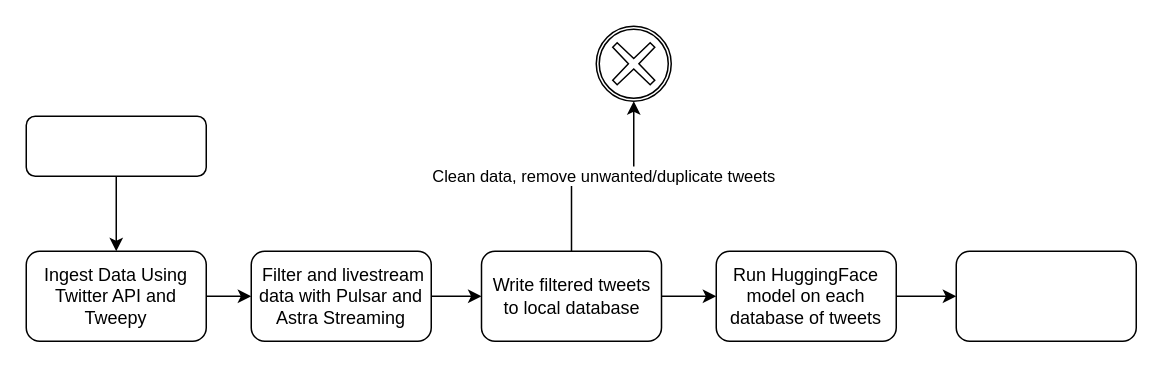
The diagram is 1163 pixels wide and 368 high, and some of its shapes have lost their labels. The shapes that lost their labels are listed below. From the top down, each one's centre as x and y in pixels, then its label:
At (x=115, y=145): "Raw Tweets".
At (x=1045, y=295): "Analyze!".
